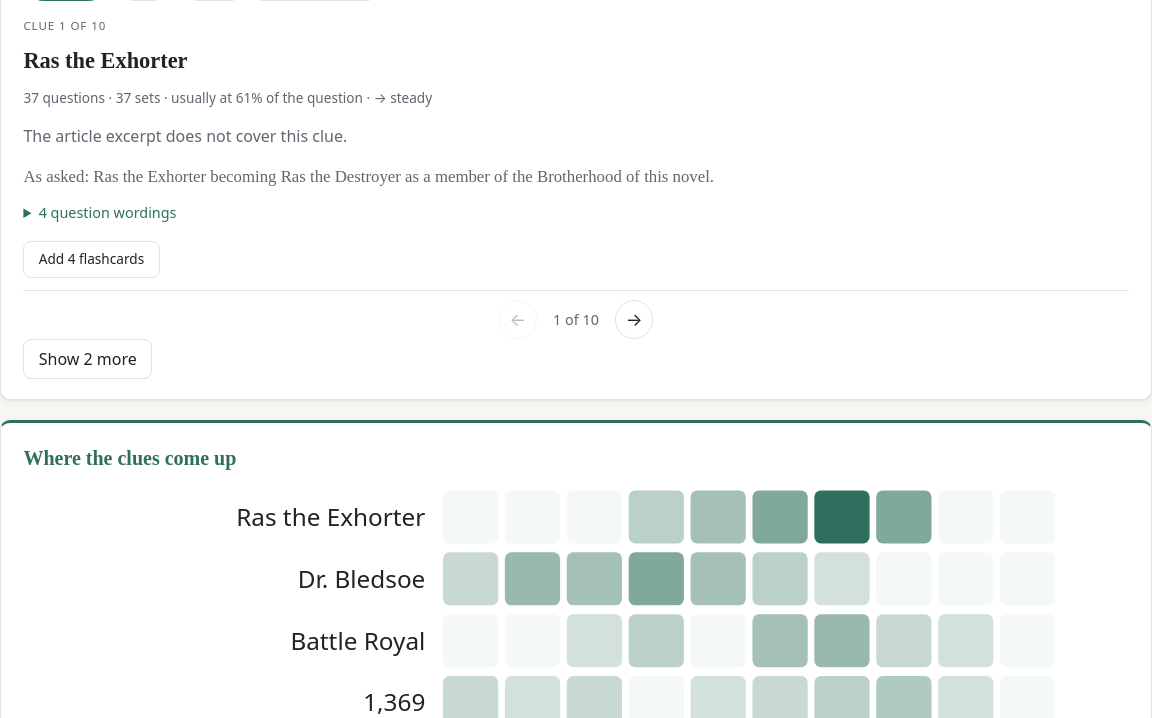
Scenario: show more loads the next five clues
This screenshot has width=1152, height=718.
(page scrolled)
Step 1. Click the button "Show 2 more" → point(88, 359), box x1=23 y1=338 x2=152 y2=379
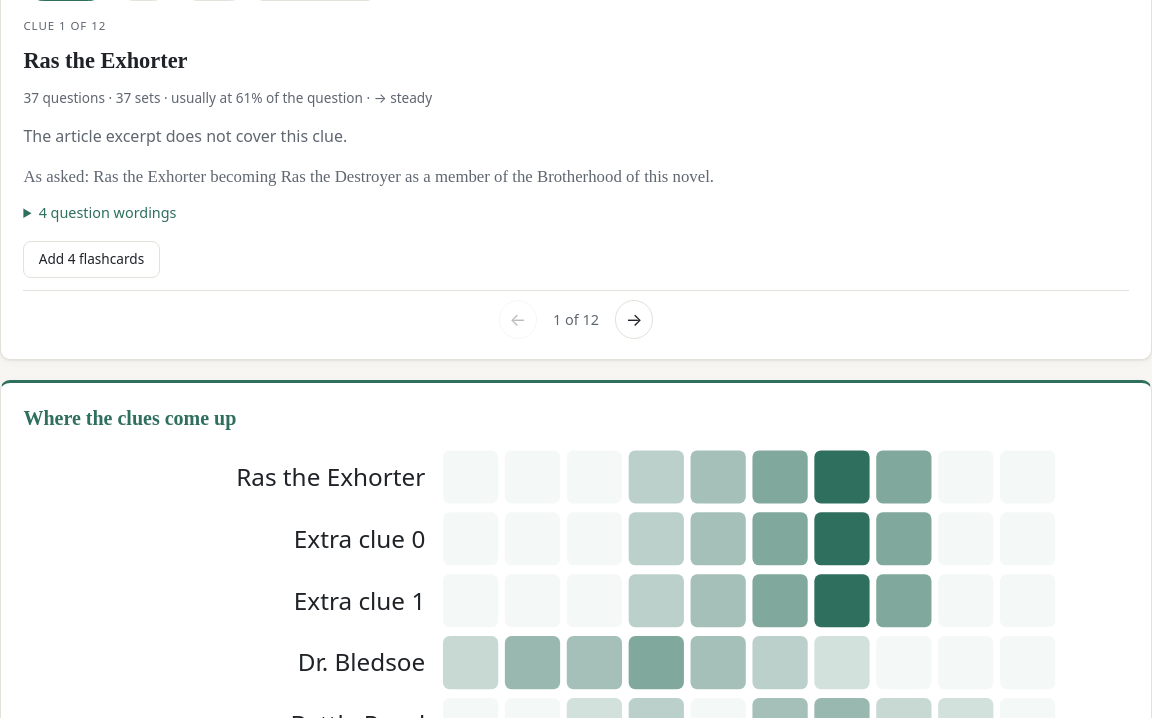
Result: the text "1 of 12" is shown at x1=553 y1=308 x2=599 y2=330
Result: the button "more" is gone
